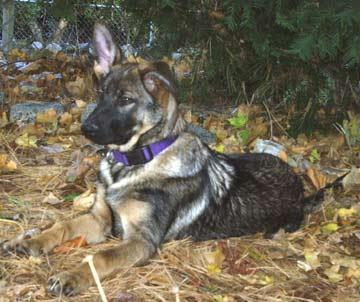German_shepherd: (0, 18, 354, 299)
